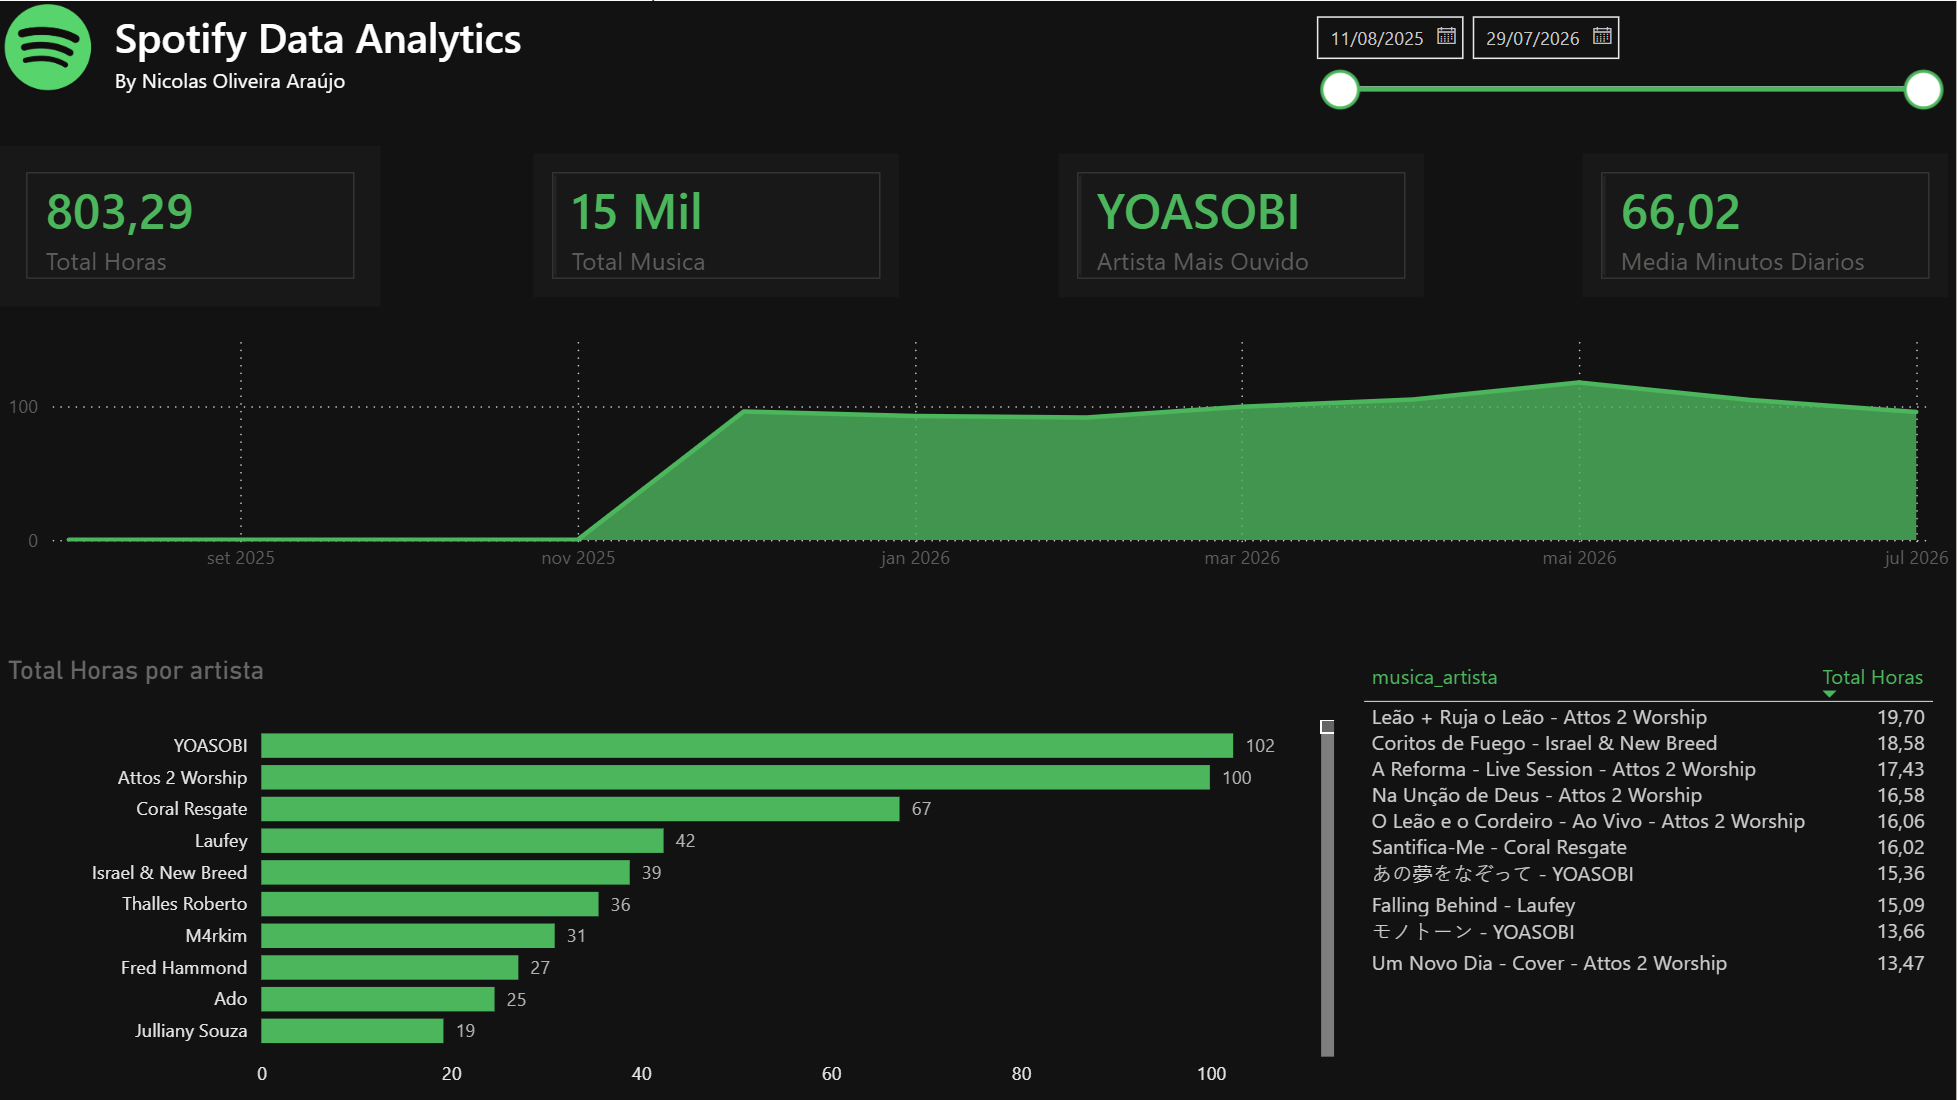

What the dashboard file says about the page in this screenshot:
{"tool":"powerbi","page":{"name":"Página 1","canvas":[1280,720],"ordinal":0},"visuals":[{"type":"cardVisual","fields":{"Data":["spotify_limpo.Total Horas"]},"box":[0,94.6,249.3,104.7],"z":0},{"type":"cardVisual","fields":{"Data":["spotify_limpo.Total Musica"]},"box":[344.2,94.9,249.3,104.7],"z":1000},{"type":"clusteredBarChart","fields":{"Category":["spotify_limpo.artista"],"Y":["spotify_limpo.Total Horas"]},"box":[0,427.8,877.5,291.8],"z":2000},{"type":"slicer","fields":{"Values":["spotify_limpo.data_reproducao"]},"box":[848.9,0,431.2,94.9],"z":3000},{"type":"tableEx","fields":{"Values":["spotify_limpo.musica_artista","spotify_limpo.Total Horas"]},"box":[886.9,427.8,393.1,291.8],"z":4000},{"type":"lineChart","fields":{"Y":["spotify_limpo.Total Horas"],"Category":["spotify_limpo.data_reproducao.Variation.Hierarquia de datas.Ano","spotify_limpo.data_reproducao.Variation.Hierarquia de datas.Mês"]},"box":[0,207.2,1280,175.2],"z":5000},{"type":"textbox","box":[70,0,393.9,60.2],"z":6000},{"type":"cardVisual","fields":{"Data":["spotify_limpo.Artista_Mais_Ouvido"]},"box":[687.8,94.9,249.3,104.7],"z":7000},{"type":"cardVisual","fields":{"Data":["spotify_limpo.media_diaria"]},"box":[1030.7,94.9,249.3,104.7],"z":8000},{"type":"image","box":[0,2,63.5,58.2],"z":9000},{"type":"textbox","box":[70,38,189.8,28.1],"z":10000}]}

Visuals, with their boxes in screenshot pixels (x1, y1, x2, y2), scaled from the page's 1280x720 canvas onto the 1957x1100 screenshot:
cardVisual - spotify_limpo.Total Horas: 0:145:381:304
cardVisual - spotify_limpo.Total Musica: 526:145:907:305
clusteredBarChart - spotify_limpo.artista x spotify_limpo.Total Horas: 0:654:1342:1099
slicer - spotify_limpo.data_reproducao: 1298:0:1956:145
tableEx - spotify_limpo.musica_artista x spotify_limpo.Total Horas: 1356:654:1956:1099
lineChart - spotify_limpo.Total Horas x spotify_limpo.data_reproducao.Variation.Hierarquia de datas.Ano: 0:317:1956:584
textbox: 107:0:709:92
cardVisual - spotify_limpo.Artista_Mais_Ouvido: 1052:145:1433:305
cardVisual - spotify_limpo.media_diaria: 1576:145:1956:305
image: 0:3:97:92
textbox: 107:58:397:101
